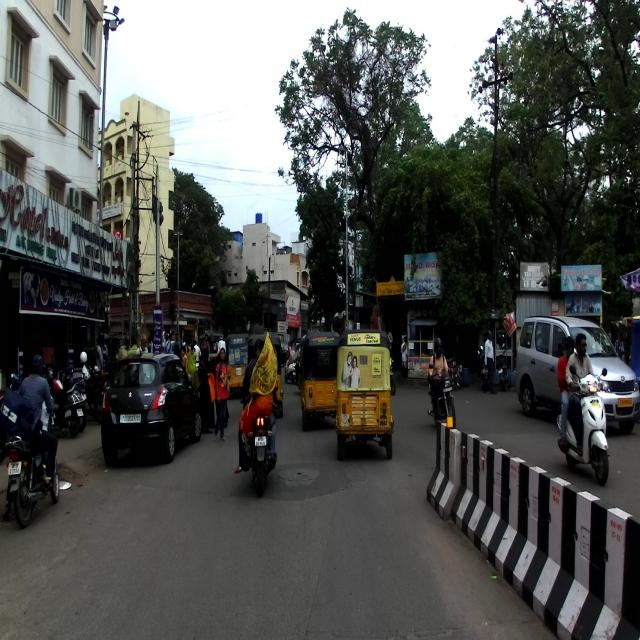autorickshaw: (335, 328, 394, 461)
car: (514, 315, 640, 436), (100, 346, 204, 466)
motorcycle: (2, 385, 59, 529), (240, 382, 278, 497), (426, 362, 456, 430)
scooter: (556, 368, 608, 486), (40, 362, 82, 436)
